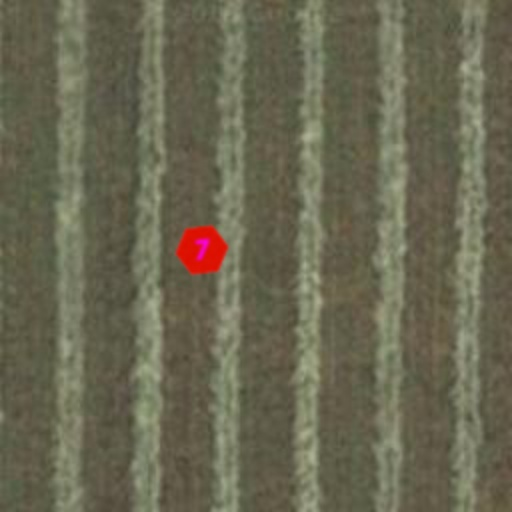hexagon: (170, 218, 234, 282)
